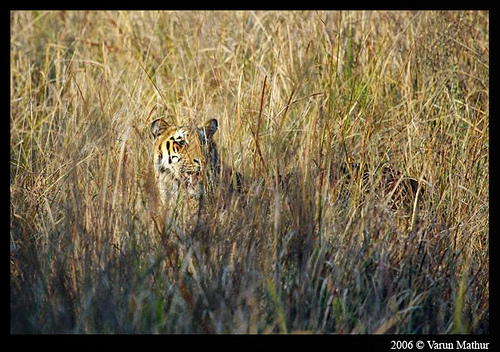Tigre: (142, 114, 233, 199)
